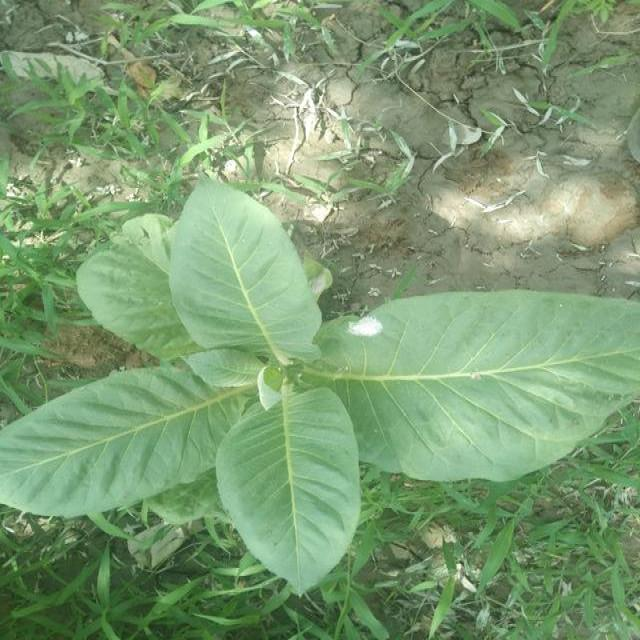crop: (3, 152, 640, 604)
